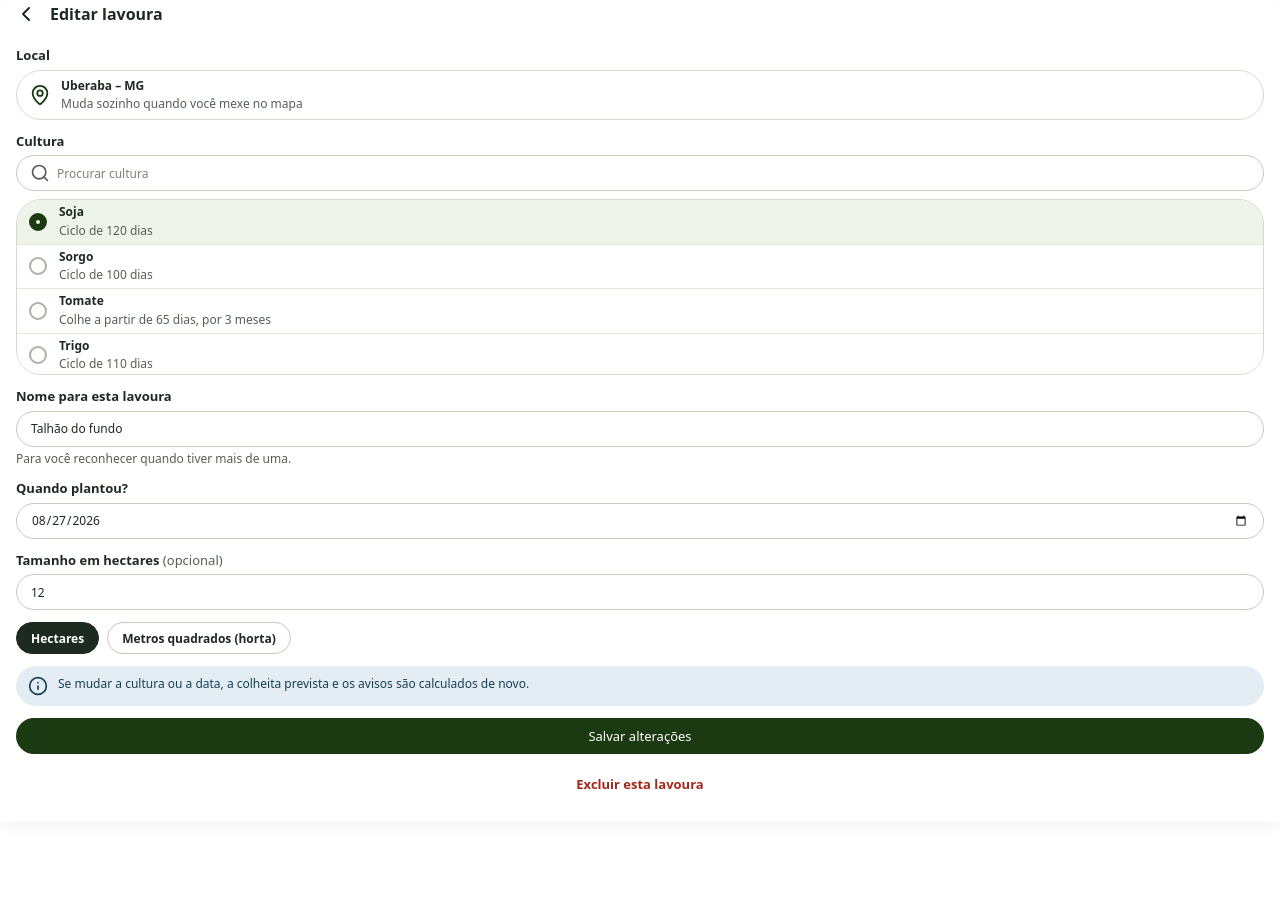
Test: Editar lavoura › cancelar a exclusão não apaga nada
(page scrolled)
Expected: the heading "Editar lavoura" is shown, 50,3 -> 163,25
Click the button "Excluir esta lavoura".
click(640, 784)  # box 16,766 -> 1264,802
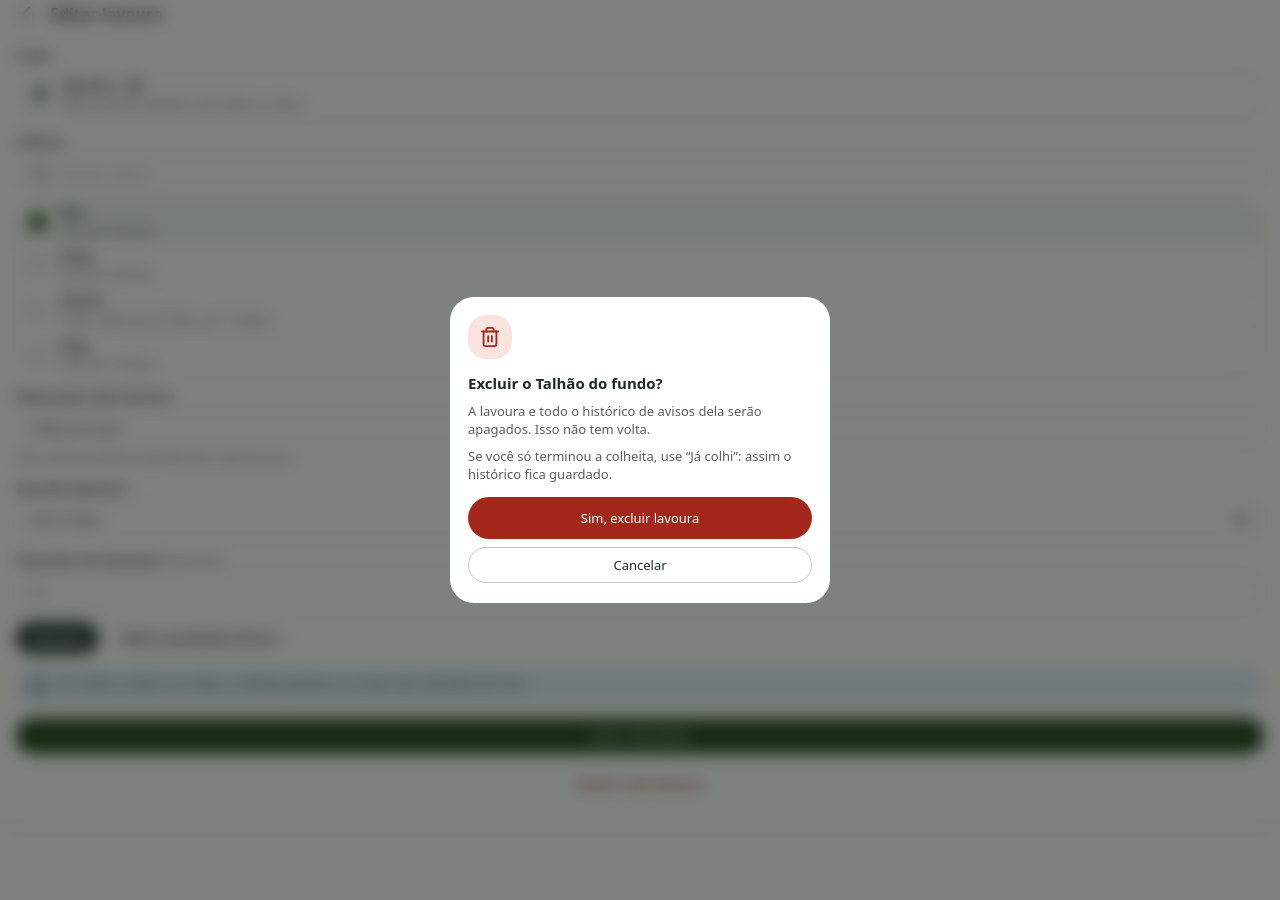
Click the button "Cancelar".
click(640, 565)  # box 468,547 -> 812,583
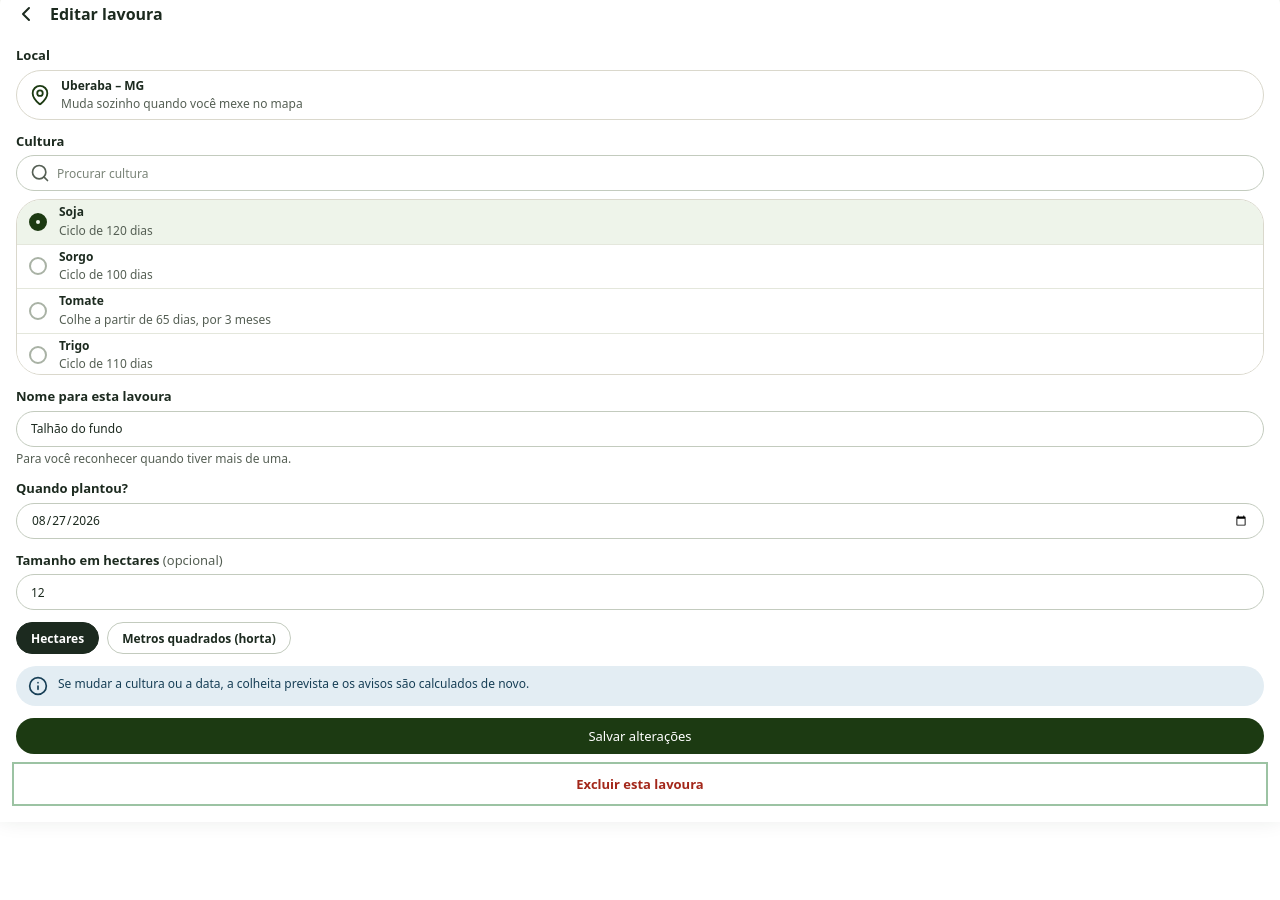
Expected: the dialog is gone
